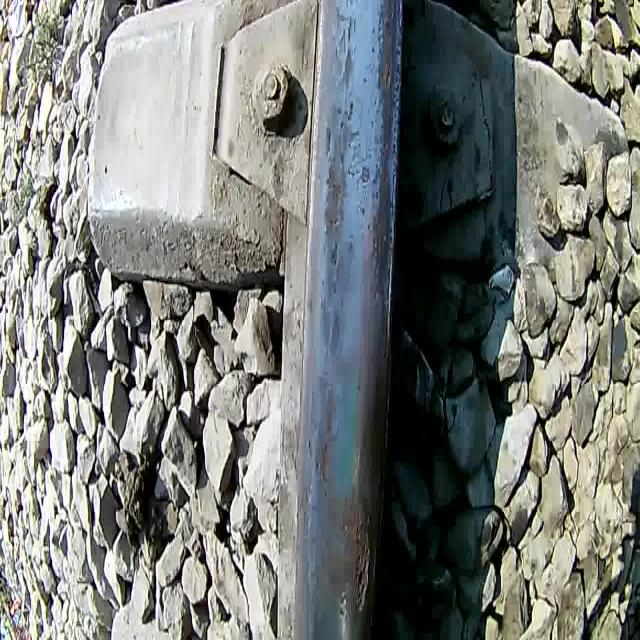Cracks: (382, 39, 393, 106)
Spallings: (351, 499, 375, 623)
Squats: (306, 370, 379, 640), (318, 0, 372, 361), (369, 0, 402, 304)
